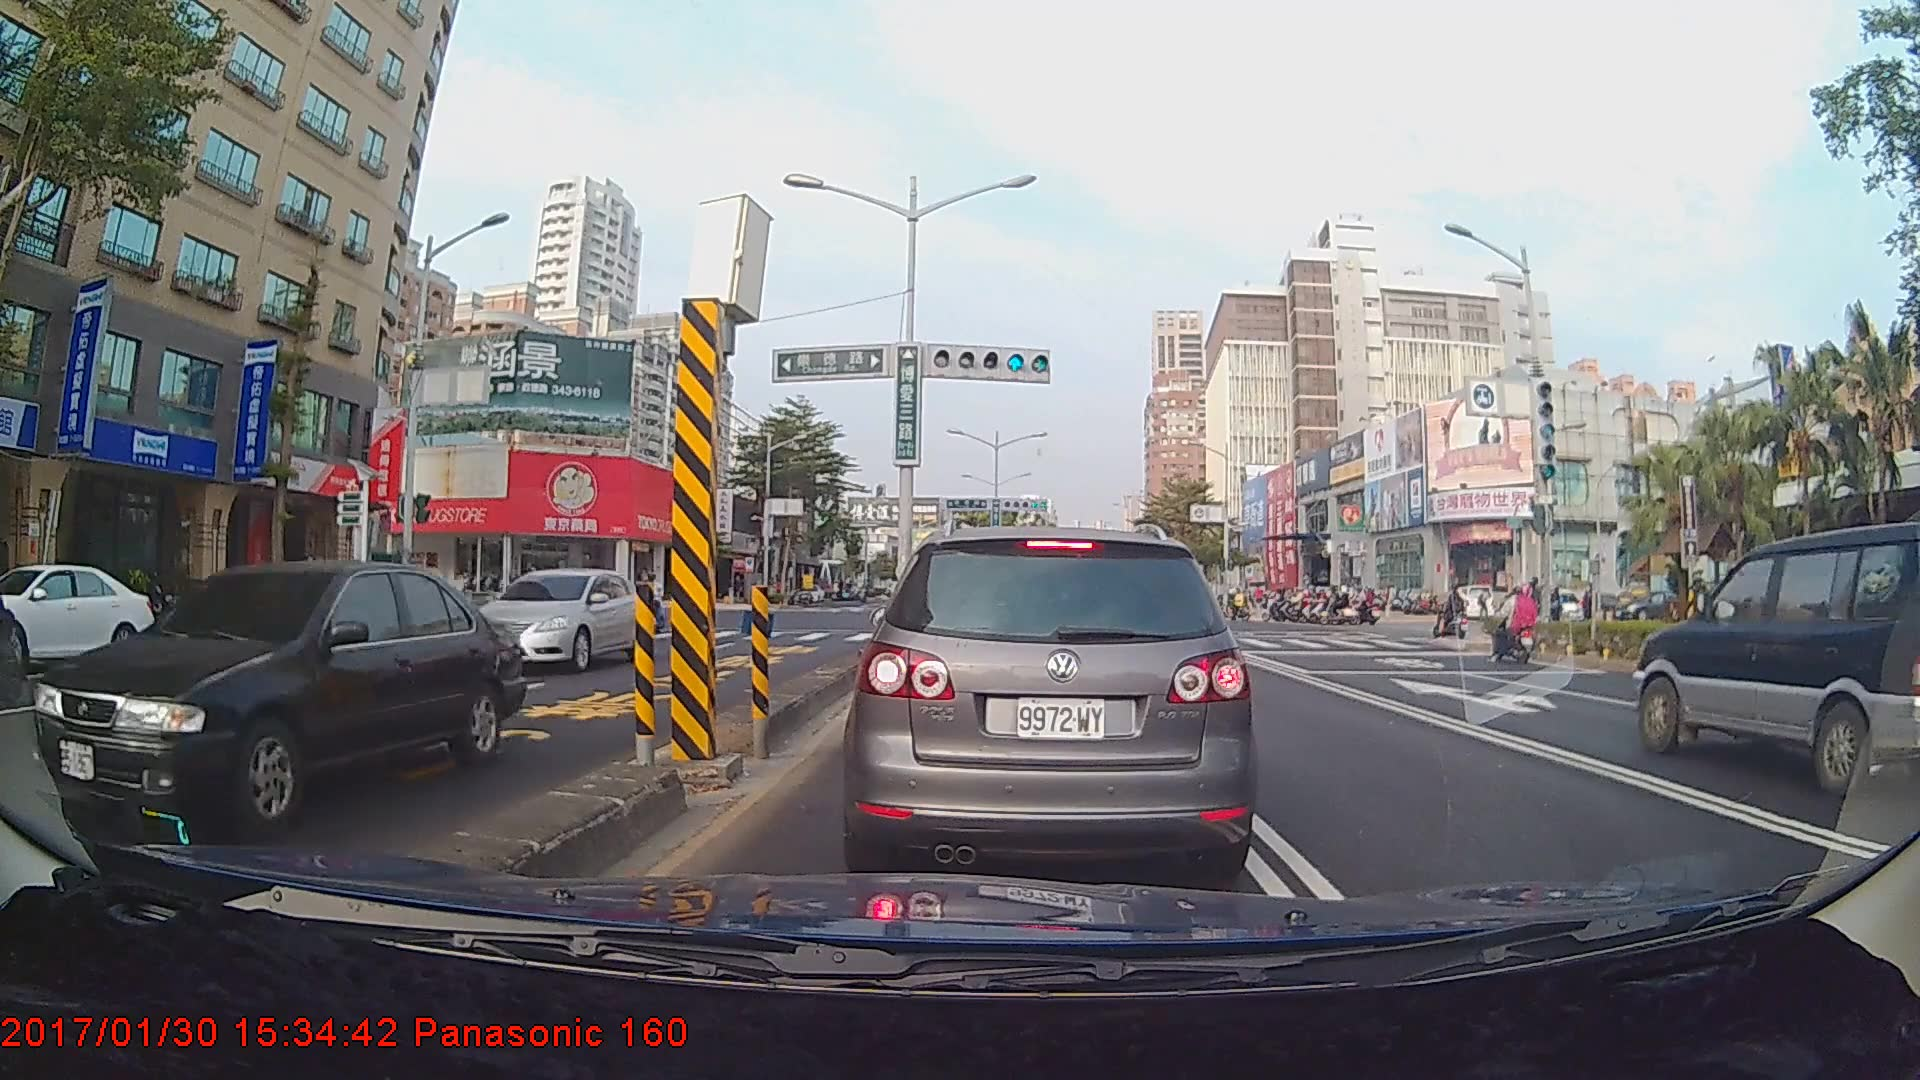rider: (1485, 582, 1548, 668), (1436, 582, 1473, 646)
vehicle: (855, 522, 1250, 875), (31, 558, 526, 840), (1632, 518, 1920, 798), (469, 567, 655, 674), (0, 561, 157, 671)
